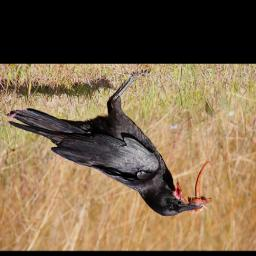Crow: (6, 70, 222, 221)
